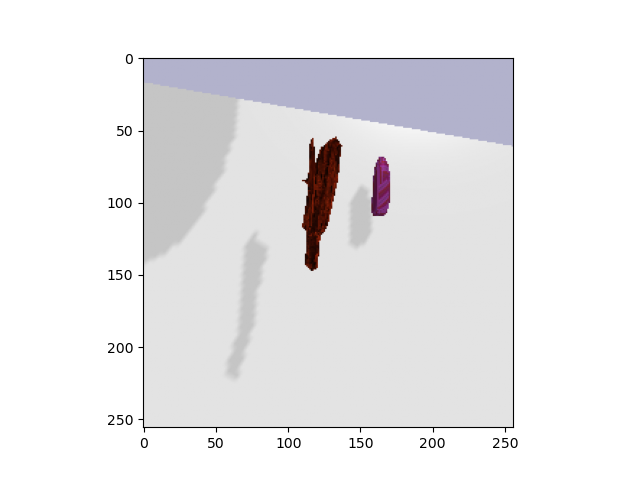v249b387_105: (370, 155, 396, 222)
v249b387_107: (300, 134, 346, 276)
